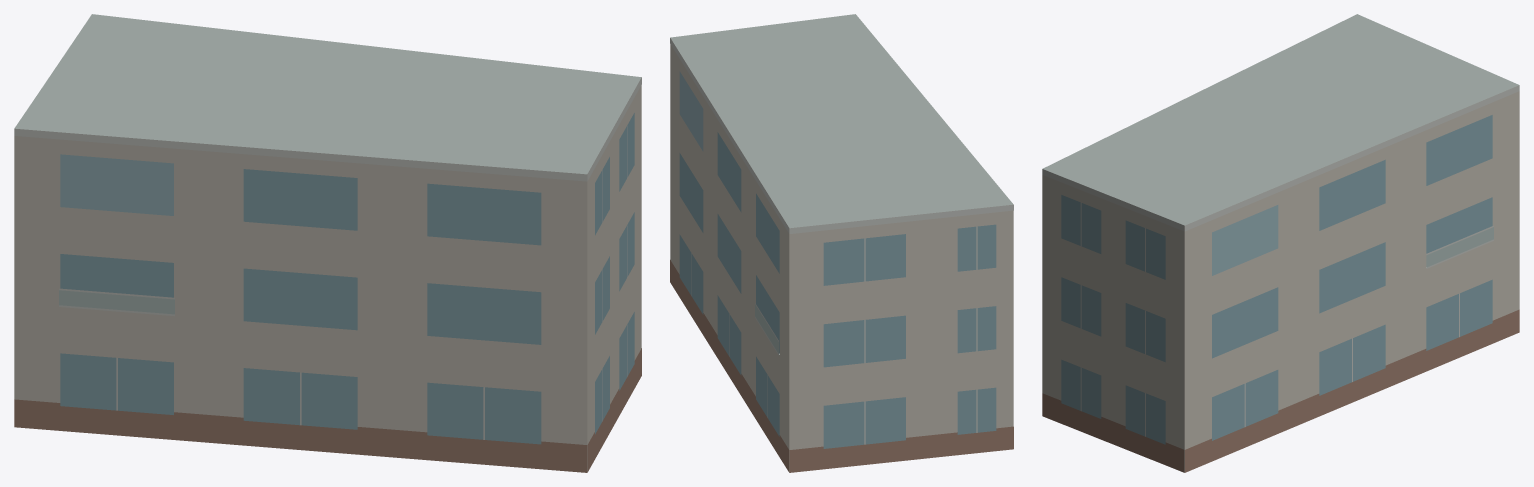
Rendered from survey-upis-32757415.glb.
3 renders of one model, left to right at view 1: azimuth 30°, elevation 25°; view 2: azimuth 150°, elevation 25°; view 3: azimuth 270°, elevation 25°, orthographic. The views are drawn at different scales.
Visible parts, largest first — view 1: survey-upis-32757415.tmp; view 2: survey-upis-32757415.tmp; view 3: survey-upis-32757415.tmp.
Boxes of the visible parts, bbox=[...] form: survey-upis-32757415.tmp: bbox=[14, 14, 641, 472]; survey-upis-32757415.tmp: bbox=[670, 14, 1013, 472]; survey-upis-32757415.tmp: bbox=[1042, 14, 1519, 472].
Bounding box in the file's own units: 18.54 × 10.1 × 17.68.
